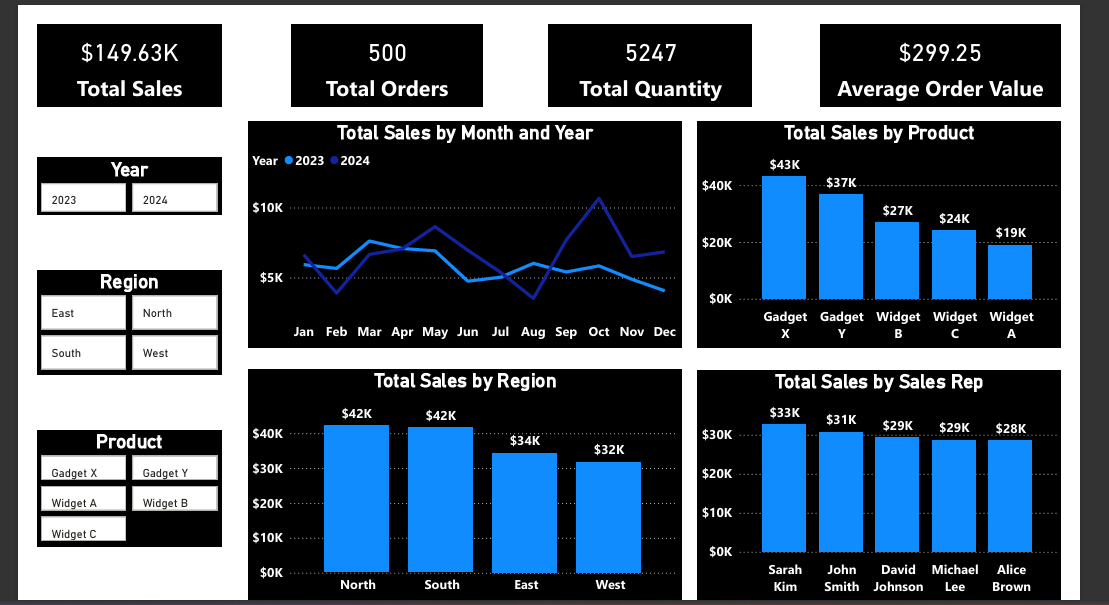

The page's visual inventory and layout, read from the dashboard file:
{"tool":"powerbi","page":{"name":"Page 1","canvas":[1280,720],"ordinal":0},"visuals":[{"type":"card","fields":{"Values":["working sheet.Total Sales"]},"box":[0,0,231,103],"z":0},{"type":"card","fields":{"Values":["working sheet.Order ID"]},"box":[318,0,239,103],"z":1000},{"type":"card","fields":{"Values":["working sheet.Quantity"]},"box":[640,0,254,103],"z":2000},{"type":"card","fields":{"Values":["working sheet.Average Order Value"]},"box":[979,0,301,103],"z":3000},{"type":"lineChart","fields":{"Y":["working sheet.Total Sales"],"Series":["working sheet.Year"],"Category":["working sheet.Month"]},"box":[264,121,542,283],"z":4000},{"type":"clusteredColumnChart","fields":{"Category":["working sheet.Product"],"Y":["working sheet.Total Sales"]},"box":[826,121,454,283],"z":5000},{"type":"clusteredColumnChart","fields":{"Category":["working sheet.Region"],"Y":["working sheet.Total Sales"]},"box":[264,431,542,289],"z":6000},{"type":"clusteredColumnChart","fields":{"Category":["working sheet.Sales Rep"],"Y":["working sheet.Total Sales"]},"box":[826,432,454,288],"z":7000},{"type":"advancedSlicerVisual","fields":{"Values":["working sheet.Year"]},"box":[0,167,231,72],"z":8000},{"type":"advancedSlicerVisual","fields":{"Values":["working sheet.Region"]},"box":[0,307,231,130],"z":8001},{"type":"advancedSlicerVisual","fields":{"Values":["working sheet.Product"]},"box":[0,507,231,145],"z":8002}]}

Visuals, with their boxes in screenshot pixels (x1, y1, x2, y2):
card - working sheet.Total Sales: bbox(35, 20, 219, 102)
card - working sheet.Order ID: bbox(288, 20, 479, 102)
card - working sheet.Quantity: bbox(545, 20, 748, 102)
card - working sheet.Average Order Value: bbox(815, 20, 1055, 102)
lineChart - working sheet.Total Sales x working sheet.Year: bbox(245, 117, 677, 342)
clusteredColumnChart - working sheet.Product x working sheet.Total Sales: bbox(693, 117, 1055, 342)
clusteredColumnChart - working sheet.Region x working sheet.Total Sales: bbox(245, 364, 677, 594)
clusteredColumnChart - working sheet.Sales Rep x working sheet.Total Sales: bbox(693, 365, 1055, 594)
advancedSlicerVisual - working sheet.Year: bbox(35, 153, 219, 211)
advancedSlicerVisual - working sheet.Region: bbox(35, 265, 219, 369)
advancedSlicerVisual - working sheet.Product: bbox(35, 425, 219, 540)
